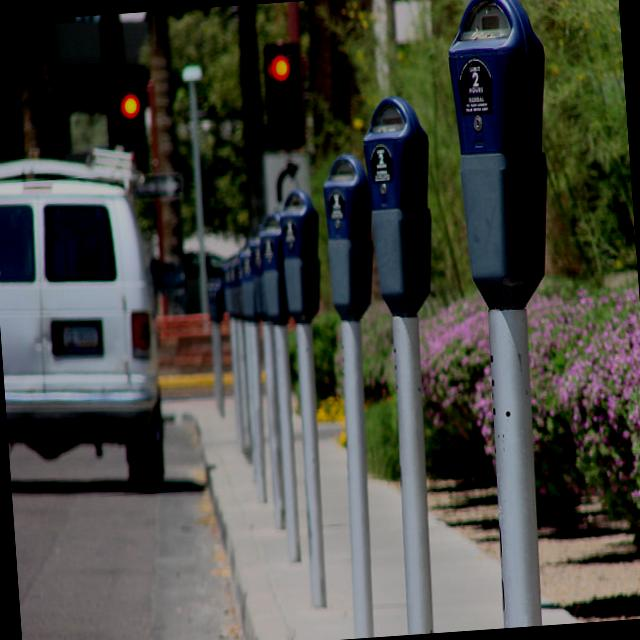Vehicle: (0, 139, 171, 491)
